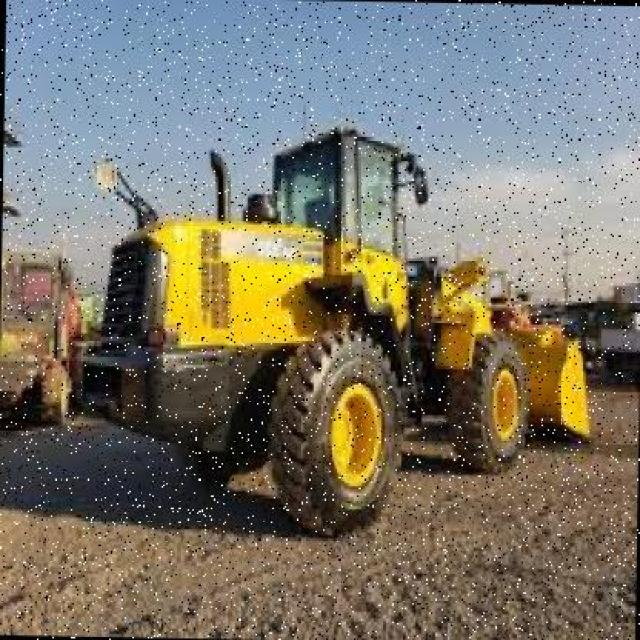buldozerpayloadergrader: (78, 118, 604, 524)
